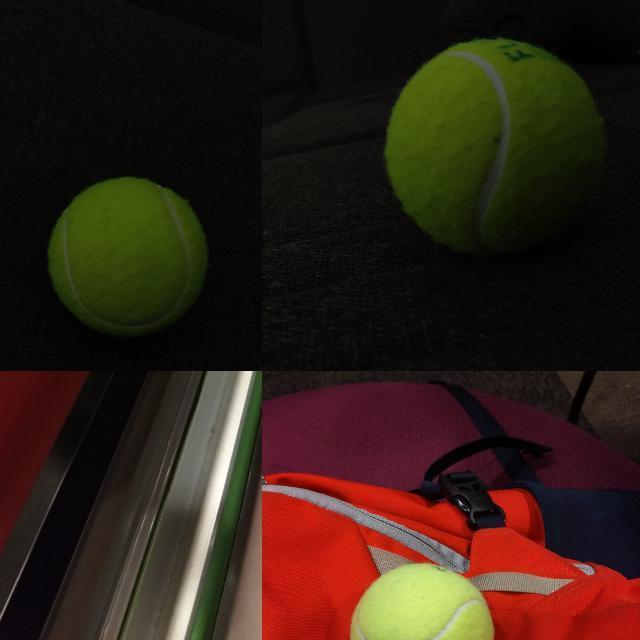tennis-ball: (385, 38, 608, 254), (47, 176, 207, 337), (349, 562, 496, 639)
